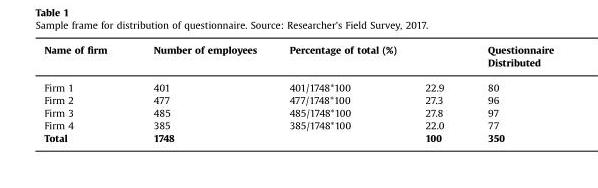table: (43, 43, 553, 143)
table column: (129, 43, 272, 143), (272, 43, 387, 143), (465, 43, 553, 143), (43, 43, 129, 143), (387, 43, 465, 143)
table column header: (43, 43, 553, 93)
table row: (43, 43, 553, 74), (43, 74, 553, 93), (43, 105, 553, 118), (43, 118, 553, 131), (43, 93, 553, 105), (43, 131, 553, 143)
table spanning cell: (129, 43, 272, 93), (272, 43, 465, 74), (465, 43, 553, 93), (43, 43, 129, 93)
